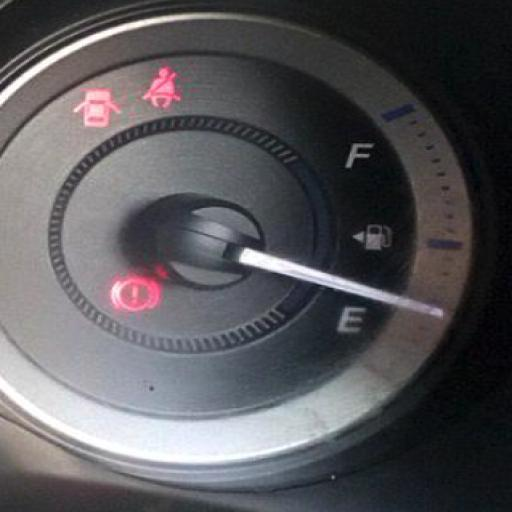empty: (333, 304, 365, 340)
fuel_icon: (352, 220, 400, 254)
full: (343, 137, 377, 172)
guage_area: (0, 7, 475, 512)
needle_center: (142, 186, 274, 292)
needle_tip: (388, 286, 446, 328)
